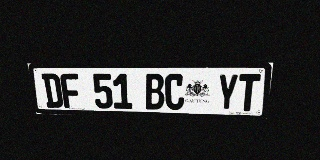1: (112, 74, 132, 109)
5: (92, 74, 114, 109)
B: (144, 74, 164, 110)
C: (165, 74, 184, 110)
D: (41, 73, 64, 108)
F: (60, 74, 82, 108)
T: (237, 74, 261, 111)
Y: (216, 74, 239, 111)
